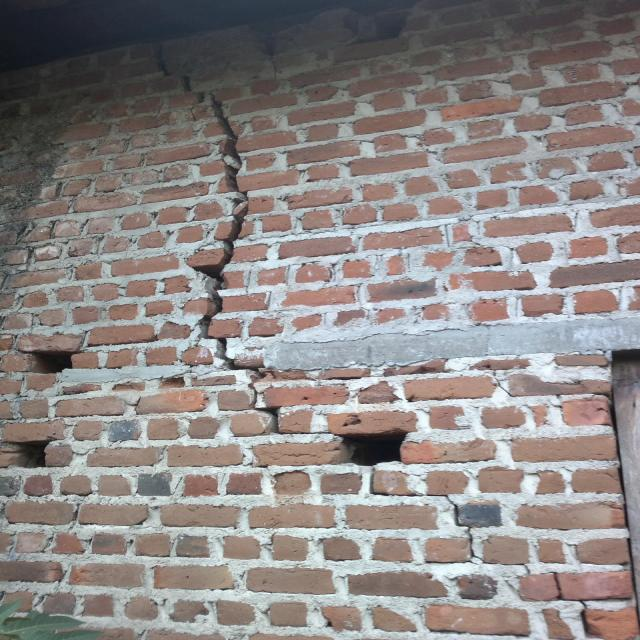Wall_Cracks: (124, 21, 620, 640)
